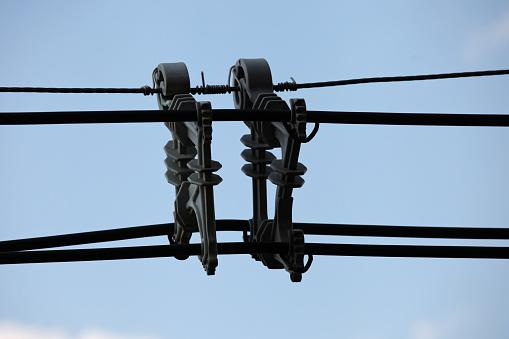wires-only: (1, 62, 509, 269)
